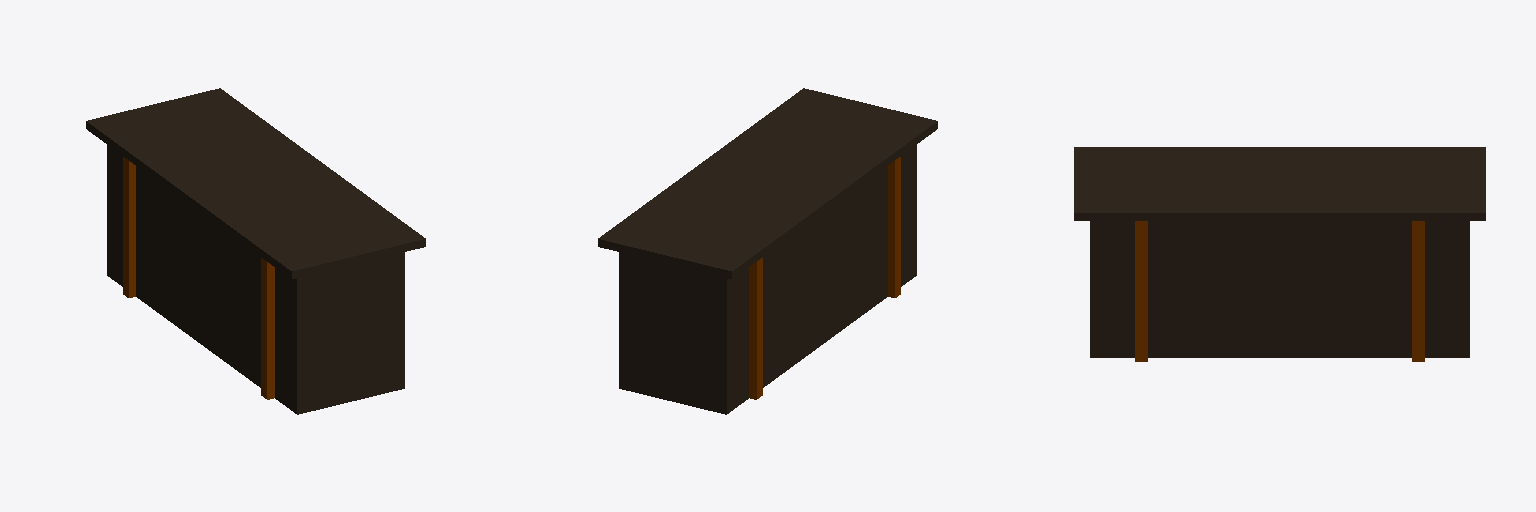
File: crate.obj
3 renders of one model, left to right at view 1: azimuth 30°, elevation 25°; view 2: azimuth 150°, elevation 25°; view 3: azimuth 270°, elevation 25°, orthographic.
Visible parts, largest first — view 1: Crate_Cube; view 2: Crate_Cube; view 3: Crate_Cube.
Boxes of the visible parts, x1,y1,x2,y2 form: Crate_Cube: [86, 88, 425, 414]; Crate_Cube: [598, 88, 937, 414]; Crate_Cube: [1074, 147, 1485, 361].
Size of the model in its own units: 0.5625 by 0.609 by 1.49.